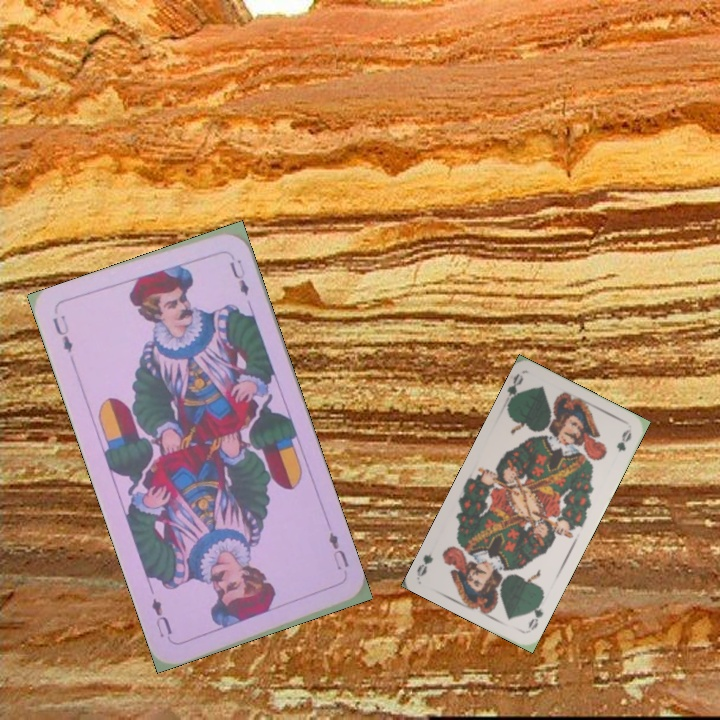EU: (324, 528, 352, 573), (48, 310, 76, 355)
GO: (499, 370, 526, 411), (524, 595, 546, 633)
